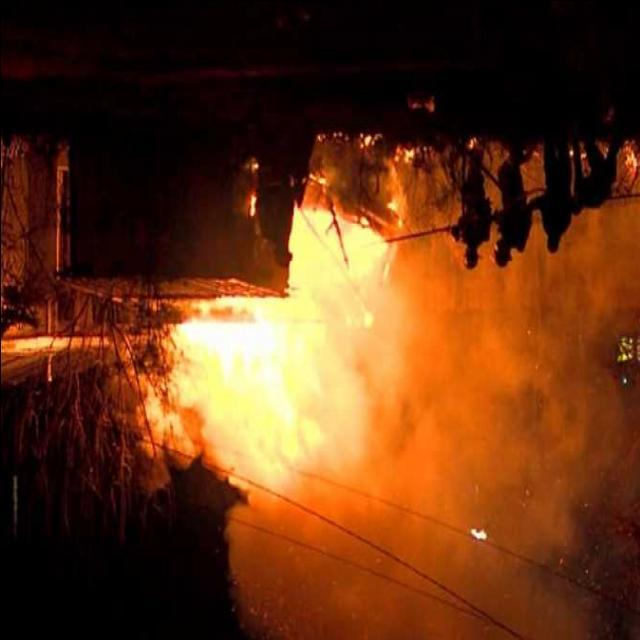Fire: (147, 204, 393, 486)
